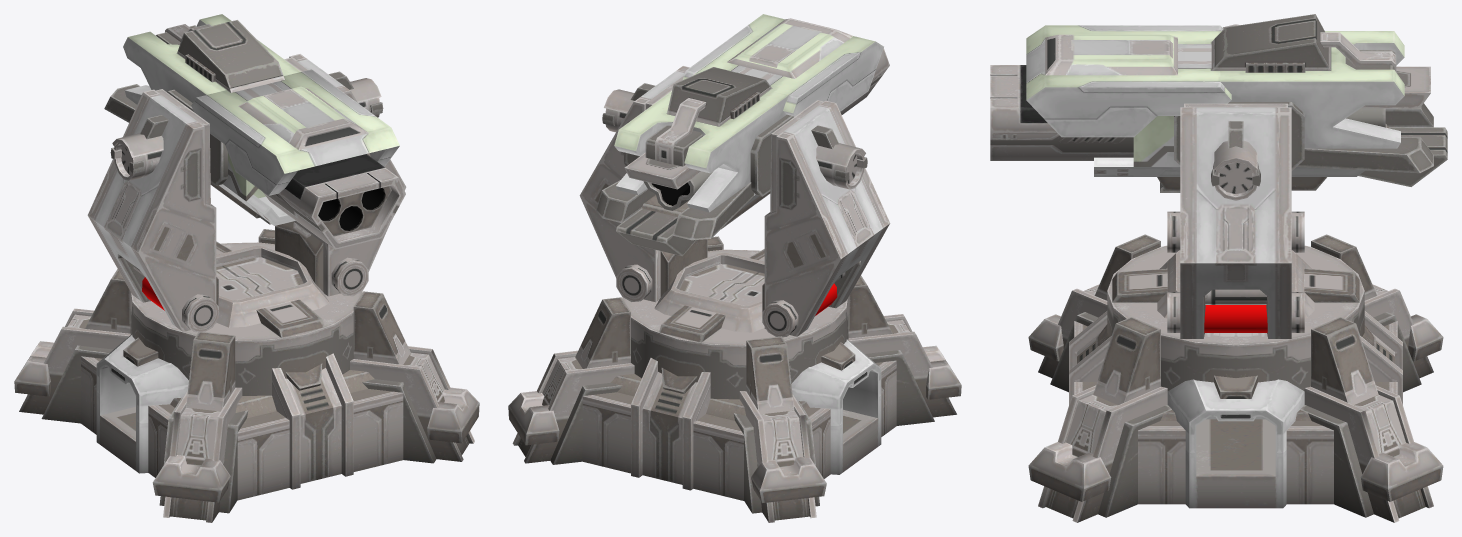
Rendered from turret-missile.glb.
The picture shows the model from 3 angles, left to right: view 1: azimuth 30°, elevation 25°; view 2: azimuth 150°, elevation 25°; view 3: azimuth 270°, elevation 25°; orthographic projection. The views are drawn at different scales.
Parts seen in each view (by area): view 1: turret-missile-1, turret-missile-2, turret-missile-3, turret-missile-4, turret-missile-5; view 2: turret-missile-1, turret-missile-2, turret-missile-3, turret-missile-4, turret-missile-5; view 3: turret-missile-1, turret-missile-3, turret-missile-2.
Boxes of the visible parts, x1,y1,x2,y2 form: turret-missile-1: (14, 229, 479, 522); turret-missile-2: (87, 54, 406, 395); turret-missile-3: (104, 14, 405, 249); turret-missile-4: (223, 257, 303, 293); turret-missile-5: (216, 265, 261, 299); turret-missile-1: (508, 236, 961, 522); turret-missile-2: (579, 66, 890, 399); turret-missile-3: (596, 14, 889, 256); turret-missile-4: (679, 264, 757, 299); turret-missile-5: (721, 272, 764, 305); turret-missile-1: (1028, 234, 1443, 522); turret-missile-3: (990, 14, 1447, 192); turret-missile-2: (1107, 24, 1364, 390).
Size of the model in its own units: 6.6 by 7.21 by 7.27.
2 materials, 1 textured.
